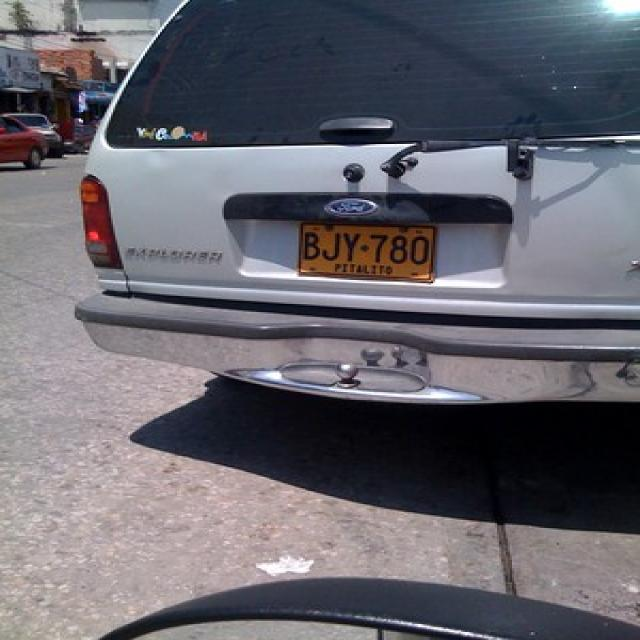placa_carro: (279, 213, 446, 295)
